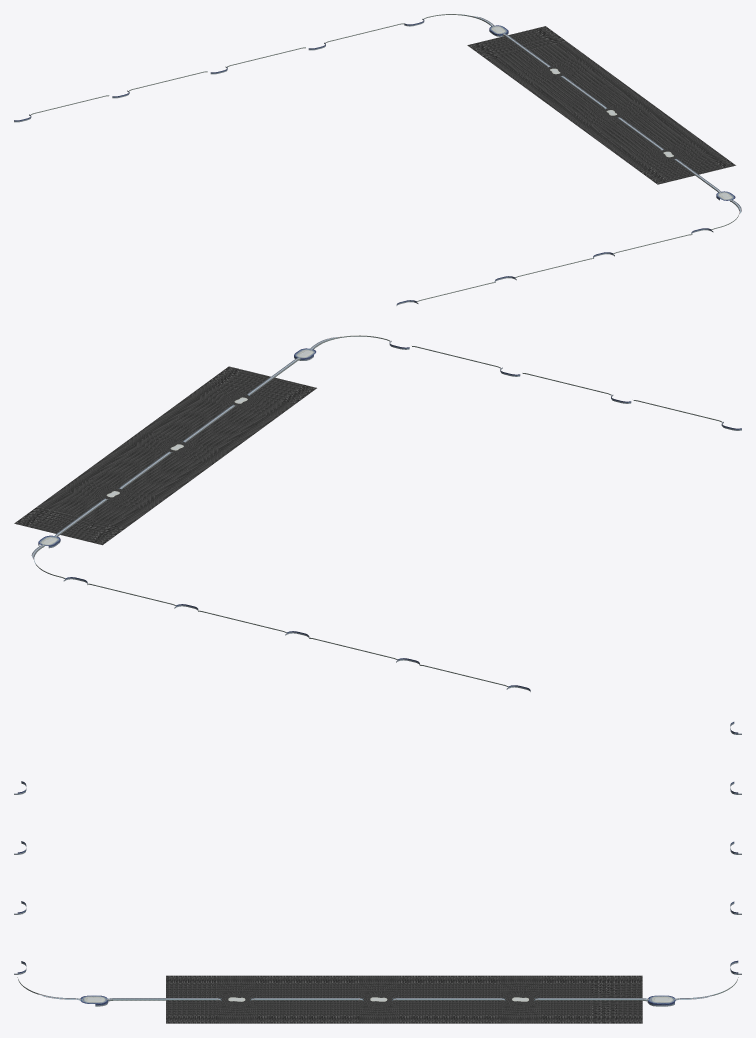
The model's file is Egg_hawk_stage_6.obj.
3 views of the same model, one above another, from view 1: azimuth 30°, elevation 25°; view 2: azimuth 150°, elevation 25°; view 3: azimuth 270°, elevation 25° (orthographic). The views are drawn at different scales.
Visible parts, largest first — view 1: obj1, obj2, obj3; view 2: obj1, obj2, obj3; view 3: obj1, obj2, obj3.
Boxes of the visible parts, left/top/right/bottom form: obj1: left=467, top=26, right=735, bottom=184; obj2: left=14, top=14, right=741, bottom=305; obj3: left=503, top=33, right=720, bottom=192; obj1: left=14, top=366, right=316, bottom=545; obj2: left=31, top=335, right=741, bottom=691; obj3: left=54, top=357, right=300, bottom=536; obj1: left=166, top=975, right=642, bottom=1023; obj2: left=14, top=722, right=741, bottom=1006; obj3: left=107, top=997, right=648, bottom=1001.
Bounding box in the file's own units: 25191 × 130 × 25650.
